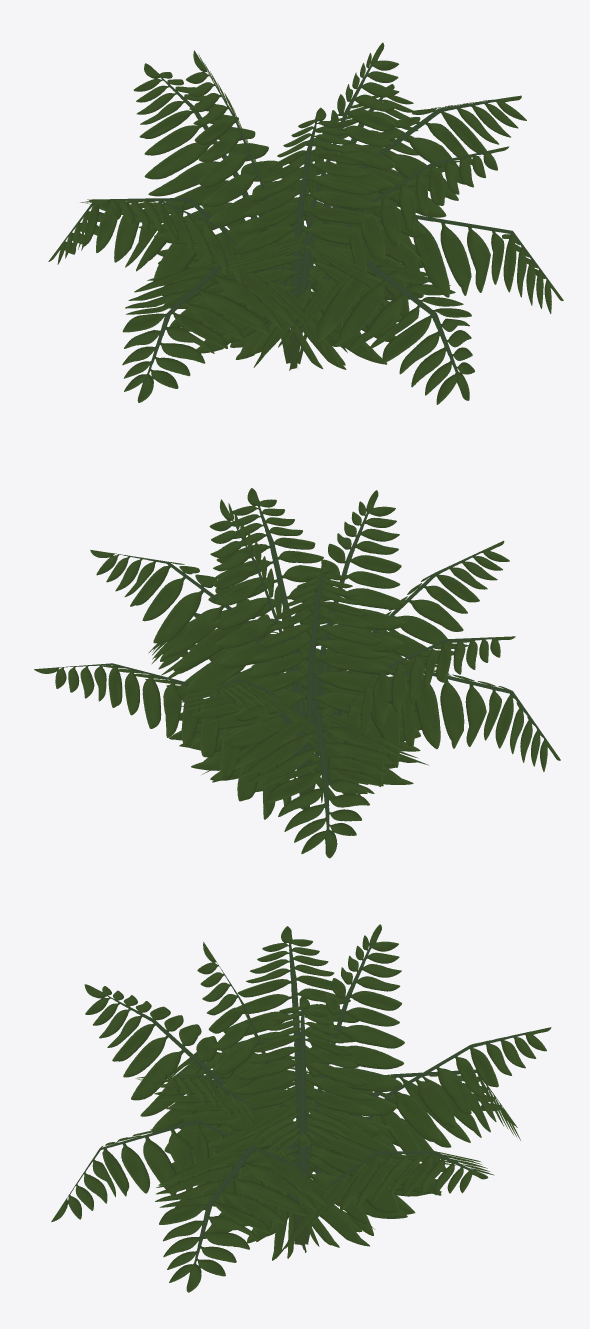
Rendered from Rocks_Fern1.fbx.
3 renders of one model, top to bottom at view 1: azimuth 30°, elevation 25°; view 2: azimuth 150°, elevation 25°; view 3: azimuth 270°, elevation 25°, orthographic. The views are drawn at different scales.
Visible parts, largest first — view 1: Rocks_Fern1_LOD0; view 2: Rocks_Fern1_LOD0; view 3: Rocks_Fern1_LOD0.
Part boxes in pixels (left/top/right/bottom): Rocks_Fern1_LOD0: left=48, top=42, right=563, bottom=404; Rocks_Fern1_LOD0: left=34, top=488, right=560, bottom=858; Rocks_Fern1_LOD0: left=51, top=924, right=551, bottom=1292.
Size of what is drawn, in the model's own units: 166 by 106 by 169.
